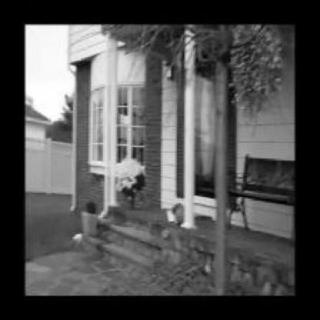other: (163, 201, 183, 225)
